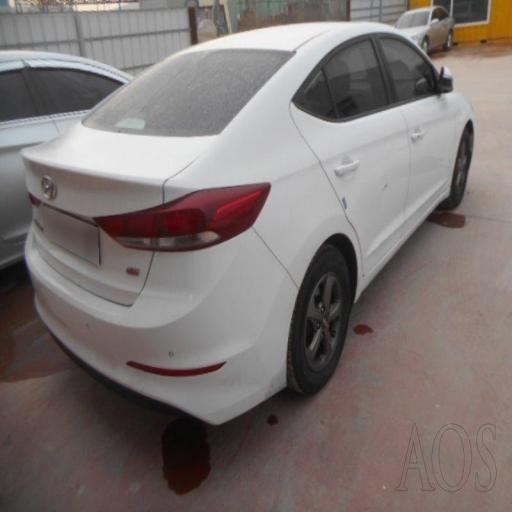normal: (20, 2, 512, 444)
